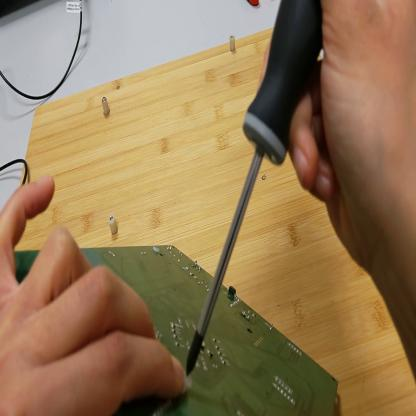hand: (3, 176, 191, 415), (289, 2, 416, 282)
low voltage board: (16, 245, 339, 416)
screwdriver-: (187, 2, 326, 373)
working area: (15, 27, 416, 413)
